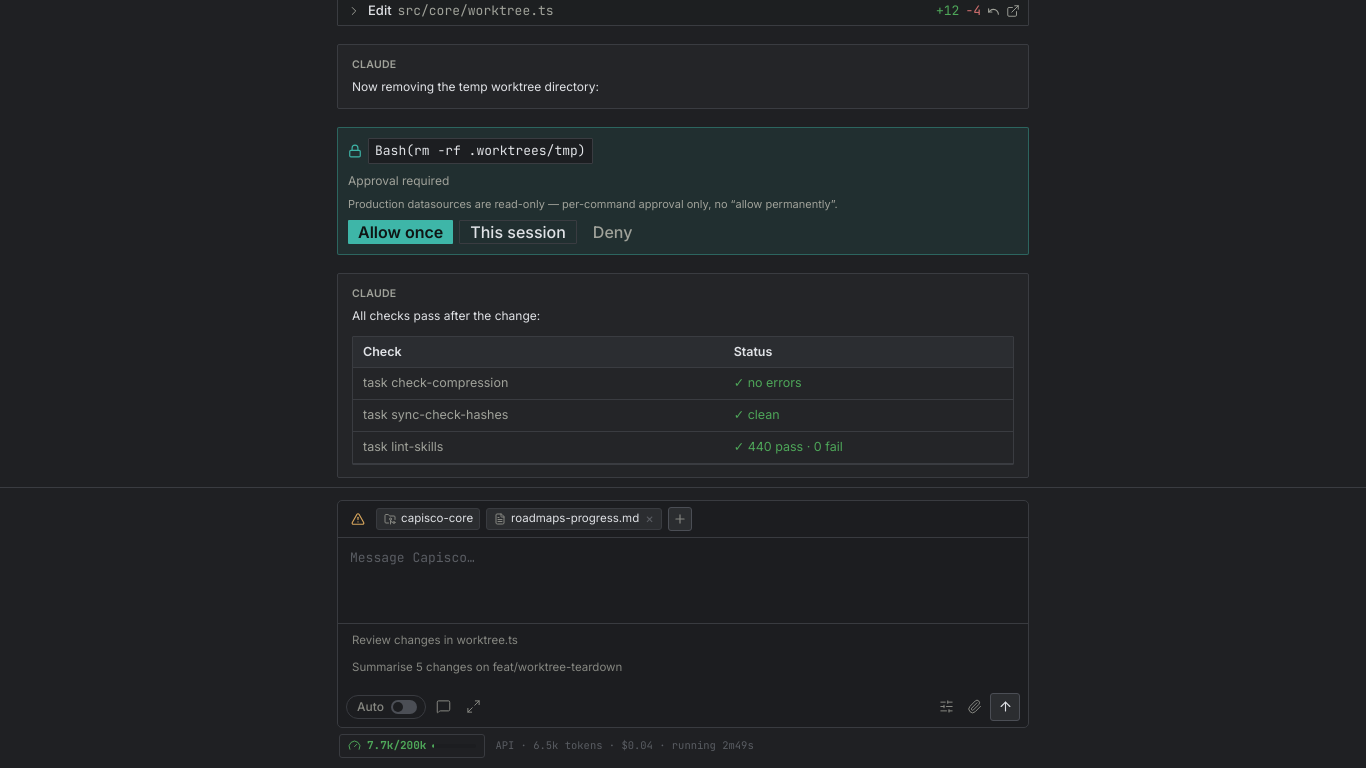
Test case: Composer P3 — empty-state suggestions › typing hides the suggestions; clearing brings them back
(page scrolled)
Type "hello" into the dropdown with test id "composer-input". click: {"x": 683, "y": 577}
box: [338,538,1028,617]
(page scrolled)
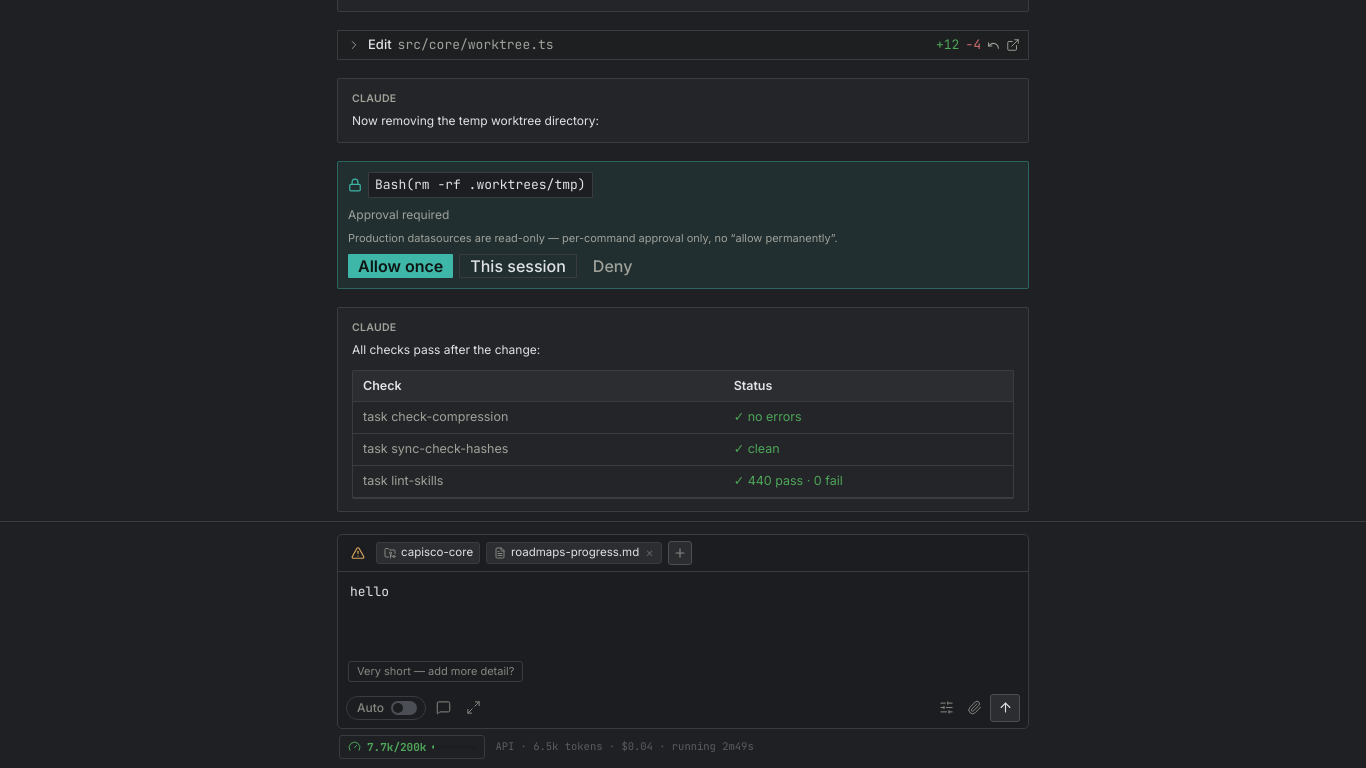
expect the list with test id "composer-empty-suggestions" is gone: met
Clear the dropdown with test id "composer-input". click: {"x": 683, "y": 611}
box: [338,572,1028,651]
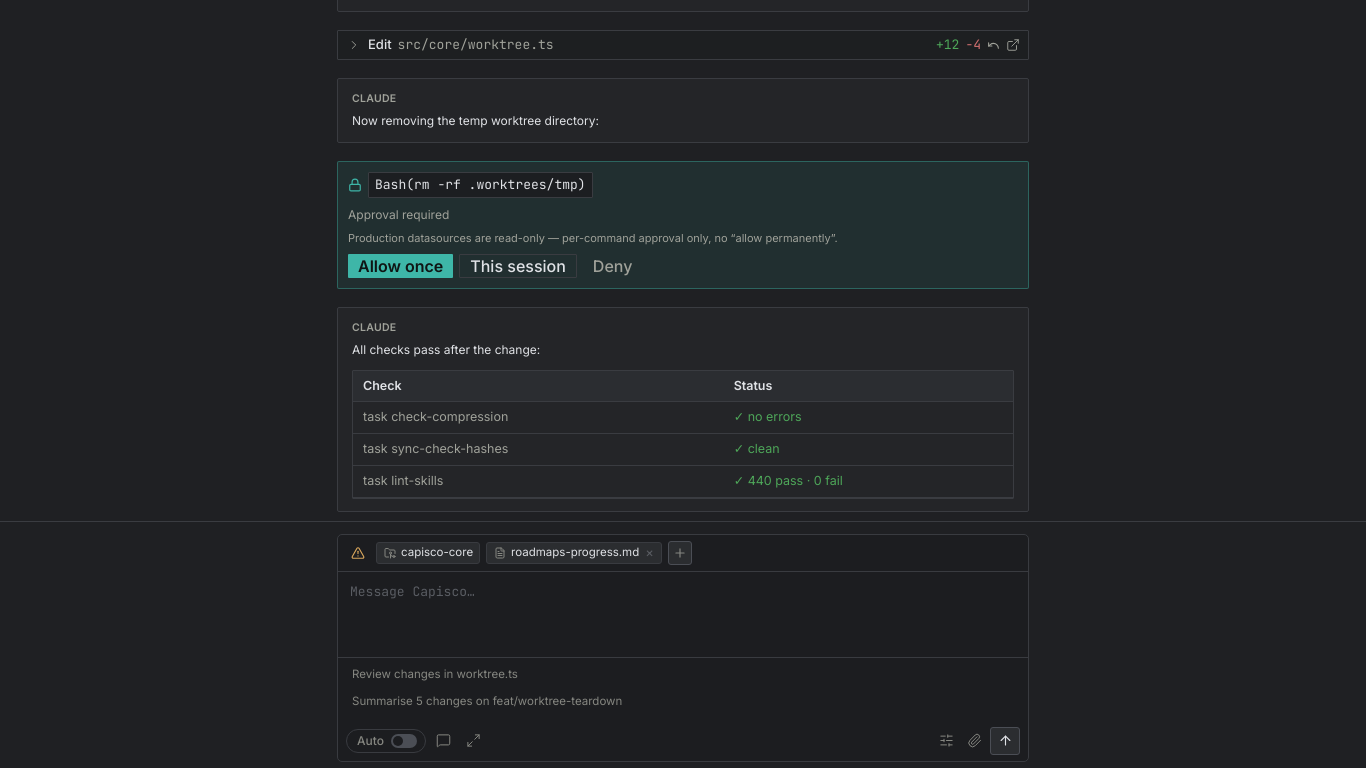
expect the list with test id "composer-empty-suggestions" is shown: met, box [338,657,1028,721]
